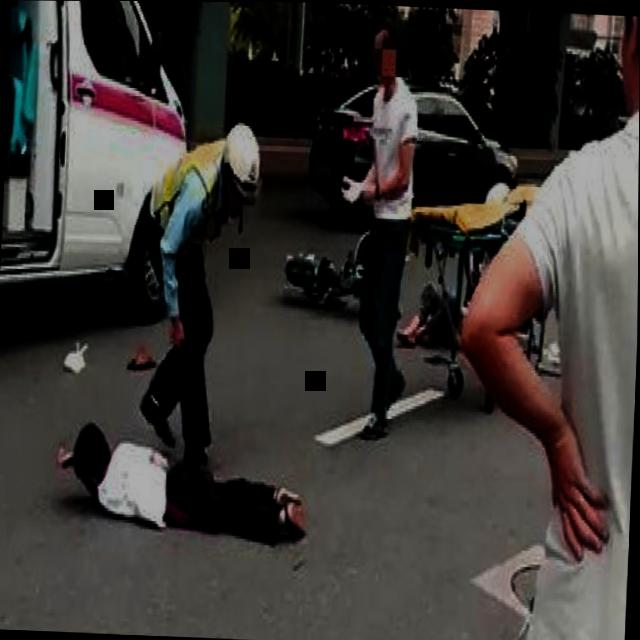Fall-Detected: (48, 404, 306, 545)
